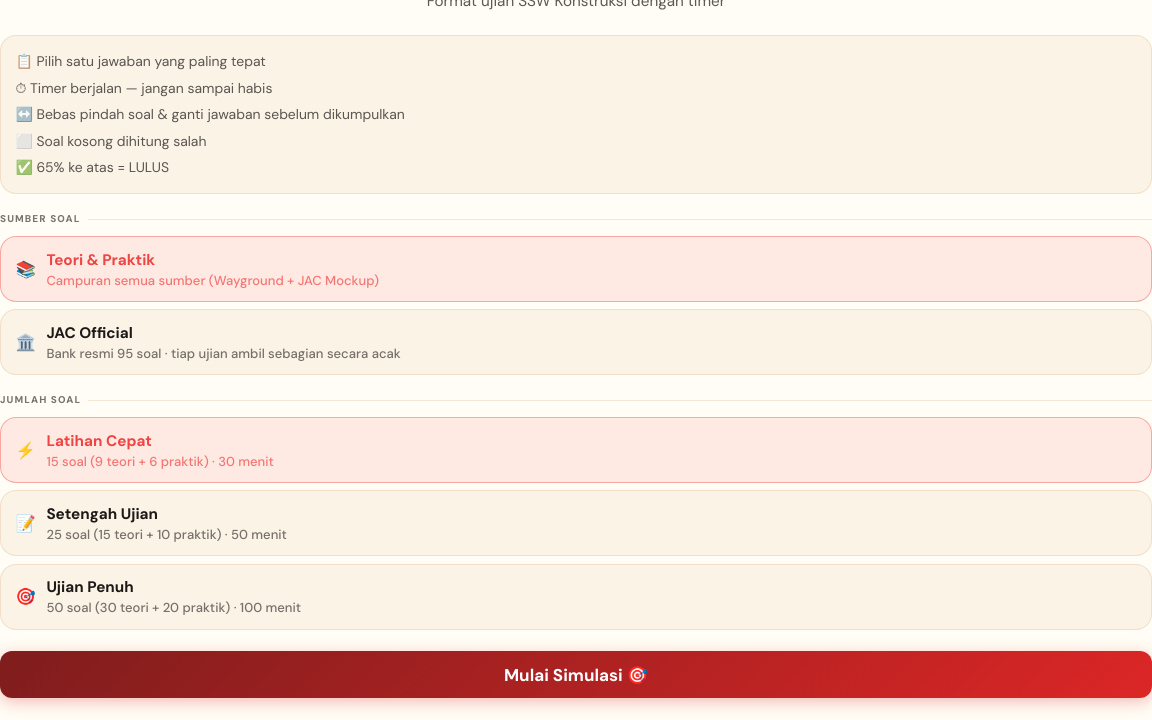
Test: simulasi pause overlay + exit confirm (item 187) › still traps and announces the pause overlay when no confirm is open
(page scrolled)
Step 1. Click the button "Mulai Simulasi 🎯" → (576, 675), box left=0, top=651, right=1151, bottom=698
(page scrolled)
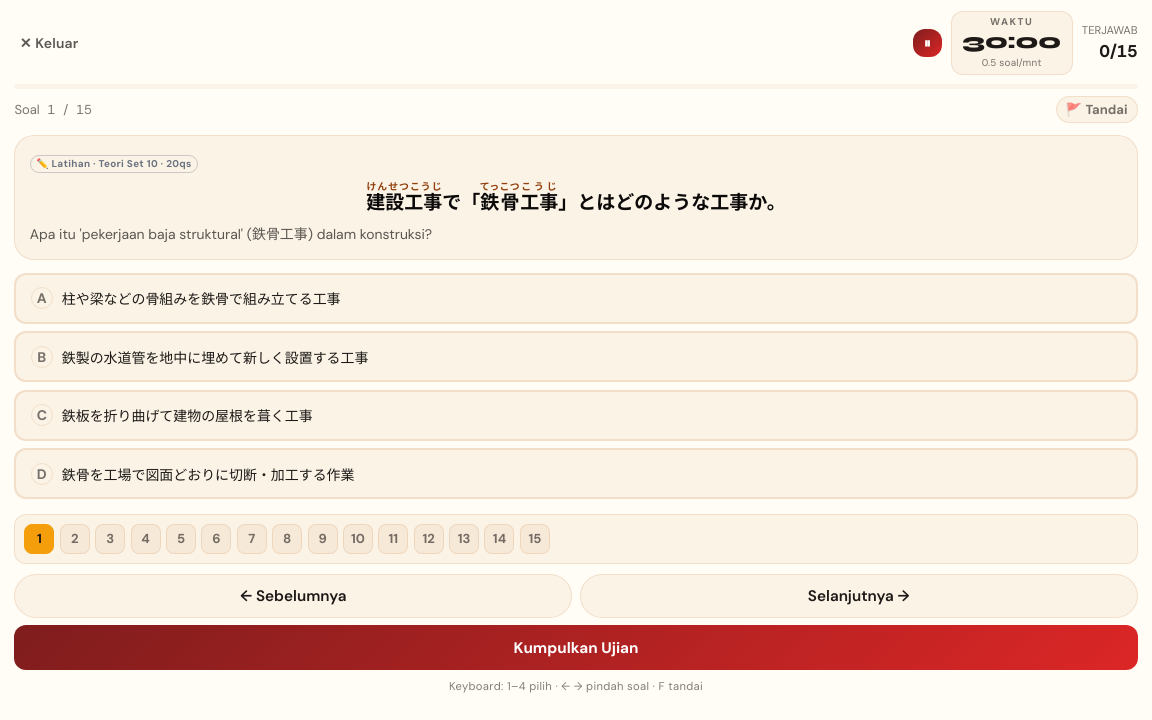
Step 2. Click the button named "Jeda" → (927, 43), box left=913, top=29, right=942, bottom=57
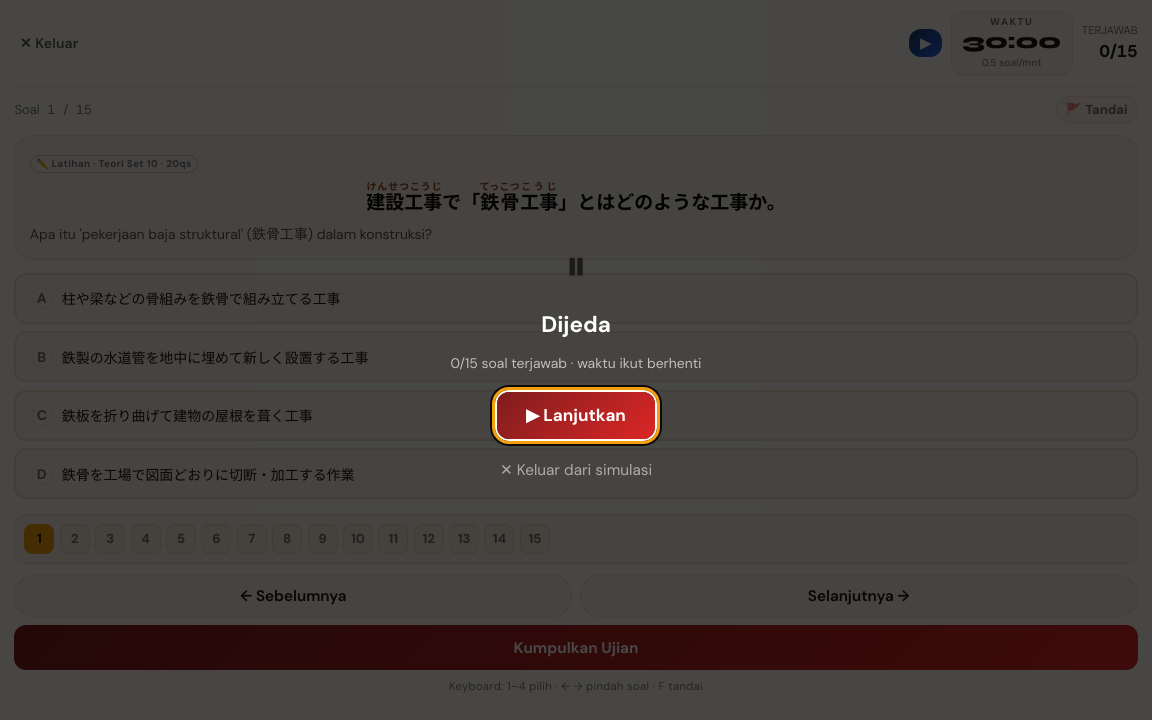
Expected: the dialog is shown
Expected: the text "Dijeda" is shown, left=541, top=308, right=611, bottom=342
